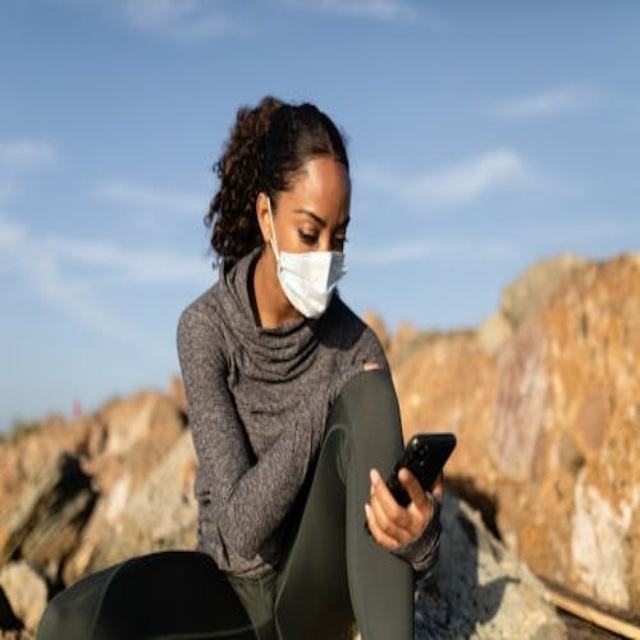Mascara: (267, 201, 347, 319)
Sin_gafas: (282, 198, 352, 246)
Sin_guantes: (365, 463, 440, 559)
